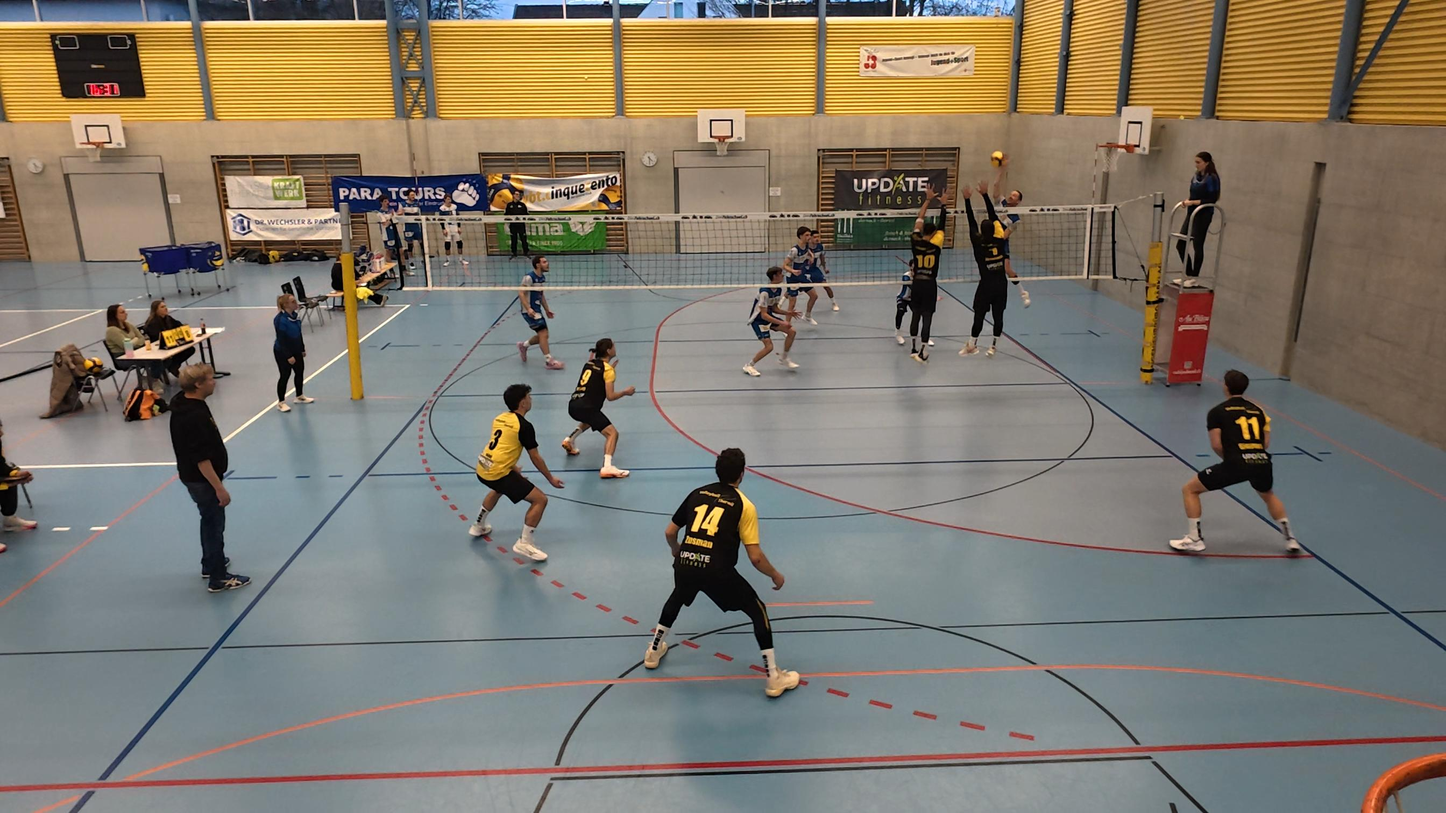attacco: (987, 151, 1038, 317)
muro: (961, 183, 1018, 360), (901, 181, 956, 364)
